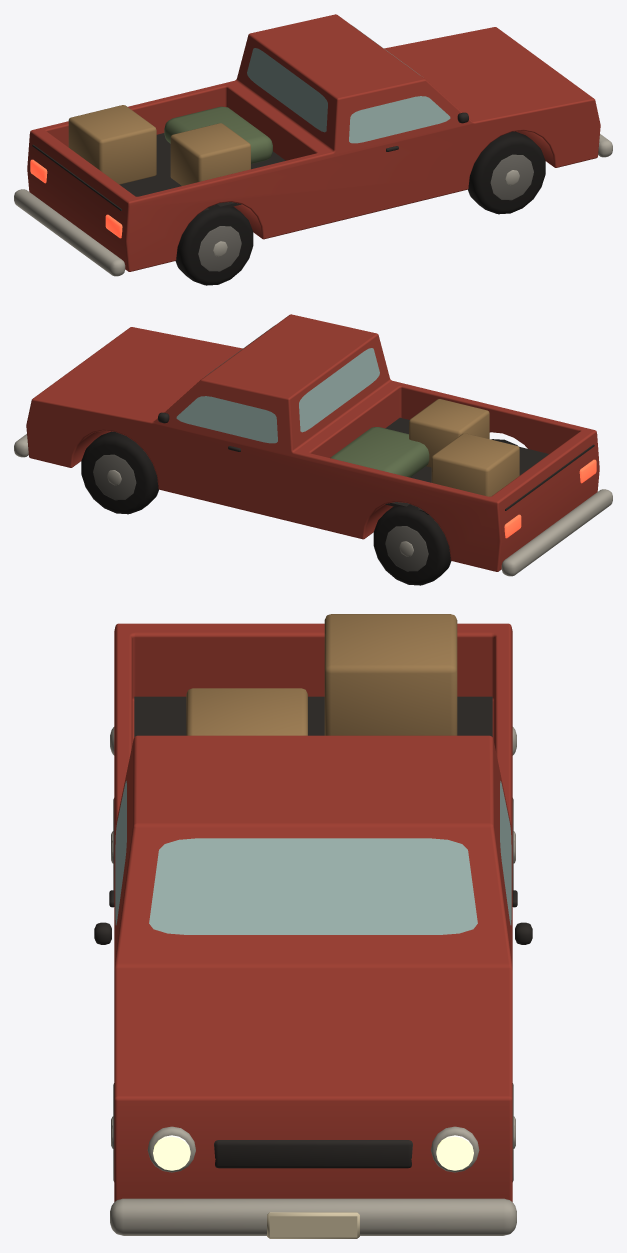
The model's file is pickup80.glb.
The picture shows the model from 3 angles, top to bottom: view 1: azimuth 30°, elevation 25°; view 2: azimuth 150°, elevation 25°; view 3: azimuth 270°, elevation 25°; orthographic projection. The views are drawn at different scales.
Visible parts, largest first — view 1: Pickup80, Pickup80_Wheel_FR, Pickup80_Wheel_RR; view 2: Pickup80, Pickup80_Wheel_FL, Pickup80_Wheel_RL; view 3: Pickup80.
Boxes of the visible parts, x1,y1,x2,y2 form: Pickup80: [14, 14, 612, 276]; Pickup80_Wheel_FR: [468, 131, 545, 214]; Pickup80_Wheel_RR: [175, 204, 253, 285]; Pickup80: [14, 314, 612, 576]; Pickup80_Wheel_FL: [81, 431, 158, 514]; Pickup80_Wheel_RL: [373, 504, 451, 585]; Pickup80: [94, 614, 532, 1238].
Size of the model in its own units: 5.27 by 1.54 by 1.98.
